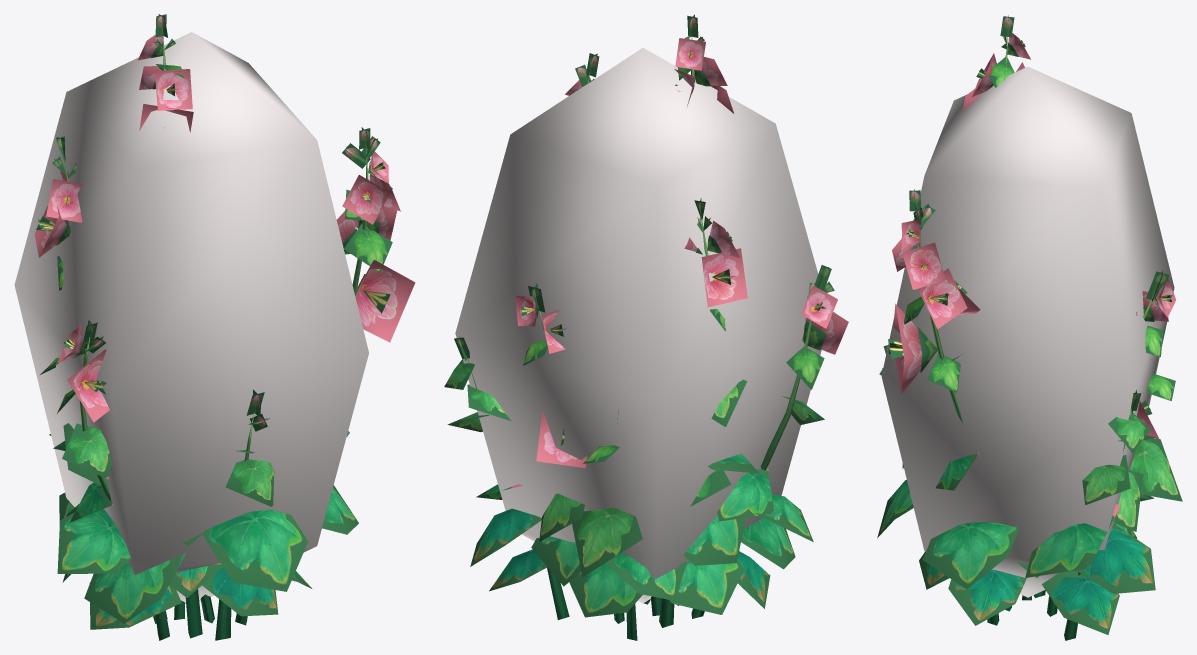
Rendered from Homeworld_Exterior_Fd_Plant_Grass_Fenlaba_01_Lod0.fbx.
3 views of the same model, side by side, from view 1: azimuth 30°, elevation 25°; view 2: azimuth 150°, elevation 25°; view 3: azimuth 270°, elevation 25° (orthographic). The views are drawn at different scales.
Parts seen in each view (by area): view 1: EffectMesh, Area_Fd_Grass_Common_Fenlaba_Lod0; view 2: EffectMesh, Area_Fd_Grass_Common_Fenlaba_Lod0; view 3: EffectMesh, Area_Fd_Grass_Common_Fenlaba_Lod0.
Boxes of the visible parts, bbox=[...] form: EffectMesh: bbox=[14, 32, 368, 602]; Area_Fd_Grass_Common_Fenlaba_Lod0: bbox=[34, 14, 415, 640]; EffectMesh: bbox=[455, 48, 821, 603]; Area_Fd_Grass_Common_Fenlaba_Lod0: bbox=[444, 14, 848, 640]; EffectMesh: bbox=[881, 66, 1174, 597]; Area_Fd_Grass_Common_Fenlaba_Lod0: bbox=[877, 15, 1182, 640].
Size of the model in its own units: 2.6 by 4.76 by 2.29.
2 materials, 1 textured.
